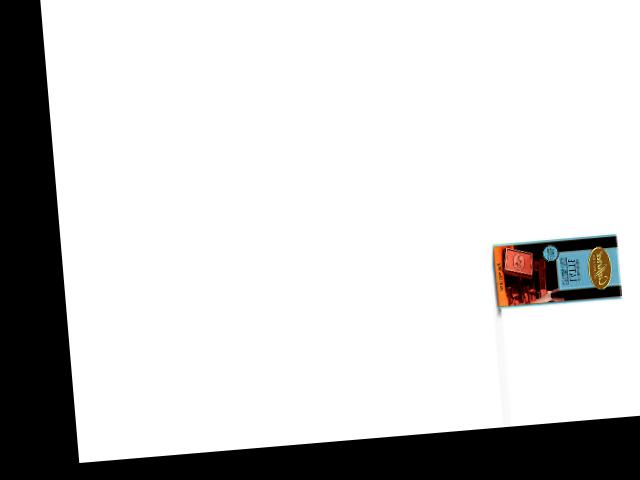chocolate: (491, 232, 623, 311)
